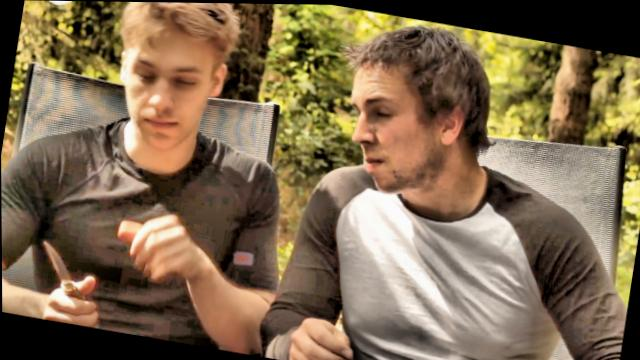knife: (21, 229, 103, 326)
